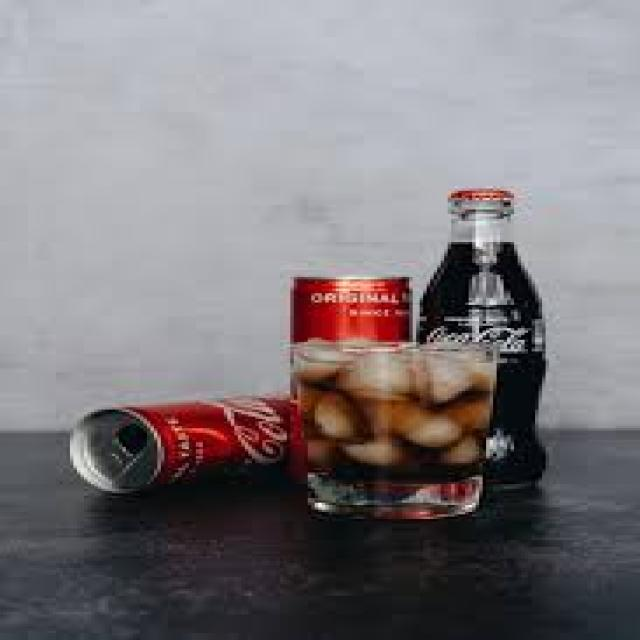Cans: (66, 389, 294, 491)
